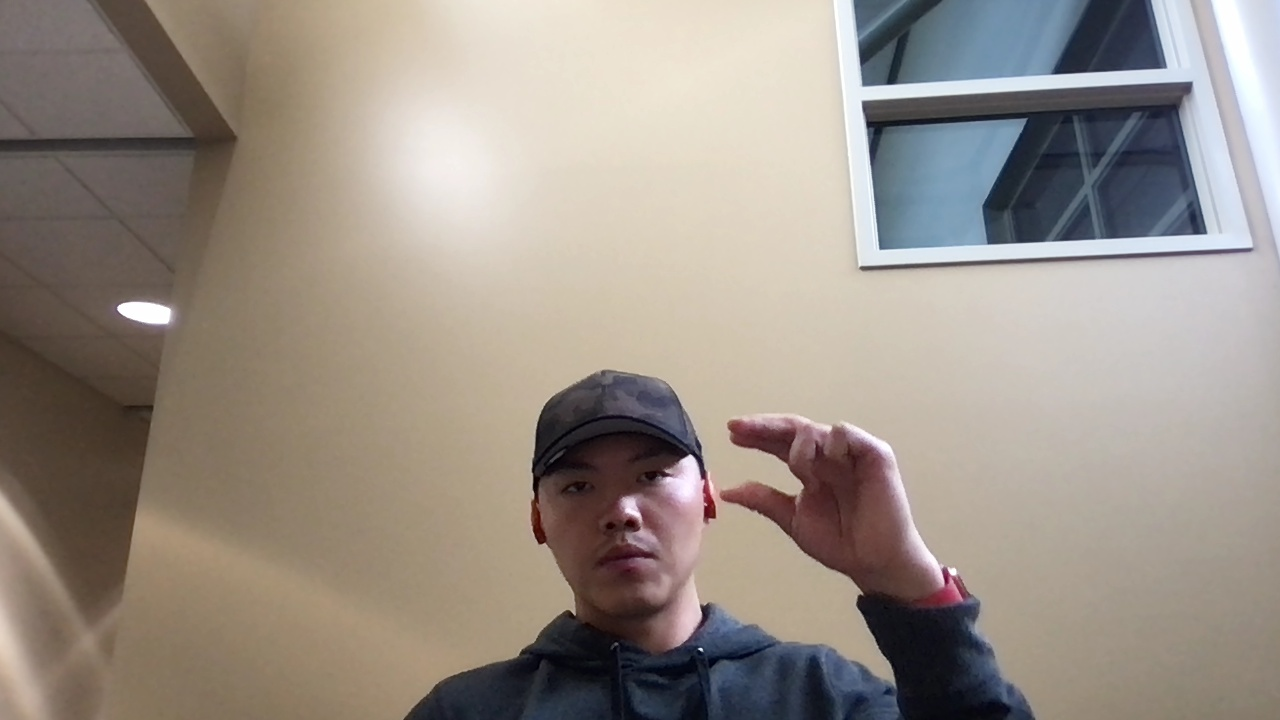No: (716, 406, 946, 578)
